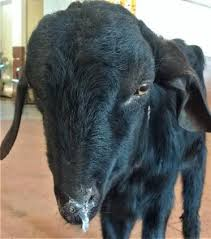ppr: (57, 192, 102, 227)
